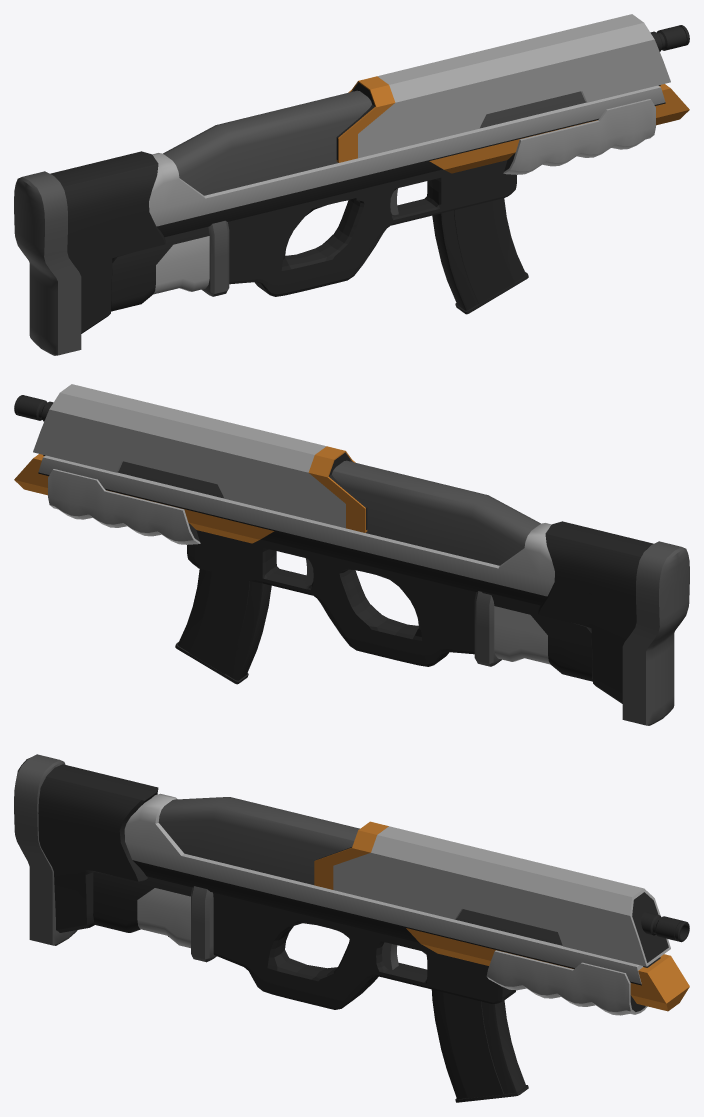
Rendered from Scifi Assault Rifle-j40c8VDdAQ.glb.
3 views of the same model, one above another, from view 1: azimuth 30°, elevation 25°; view 2: azimuth 150°, elevation 25°; view 3: azimuth 330°, elevation 25° (orthographic).
Parts seen in each view (by area): view 1: Scifi Assault Rifle-j40c8VDdAQ; view 2: Scifi Assault Rifle-j40c8VDdAQ; view 3: Scifi Assault Rifle-j40c8VDdAQ.
Part boxes in pixels (left/top/right/bottom): Scifi Assault Rifle-j40c8VDdAQ: left=14, top=14, right=689, bottom=355; Scifi Assault Rifle-j40c8VDdAQ: left=14, top=384, right=689, bottom=725; Scifi Assault Rifle-j40c8VDdAQ: left=14, top=754, right=689, bottom=1102.
Size of the model in its own units: 1.79 by 0.6476 by 0.1461.
